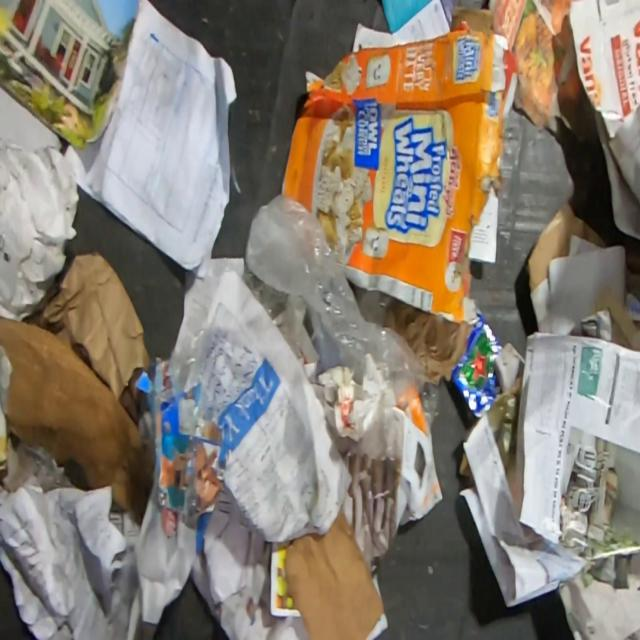cardboard: (279, 16, 518, 321), (0, 313, 156, 527), (134, 356, 226, 516), (284, 500, 382, 640), (526, 201, 608, 292)
metal: (451, 315, 504, 417)
rigid_plastic: (242, 263, 307, 358), (169, 325, 202, 390)
soft_plastic: (245, 193, 441, 433)
